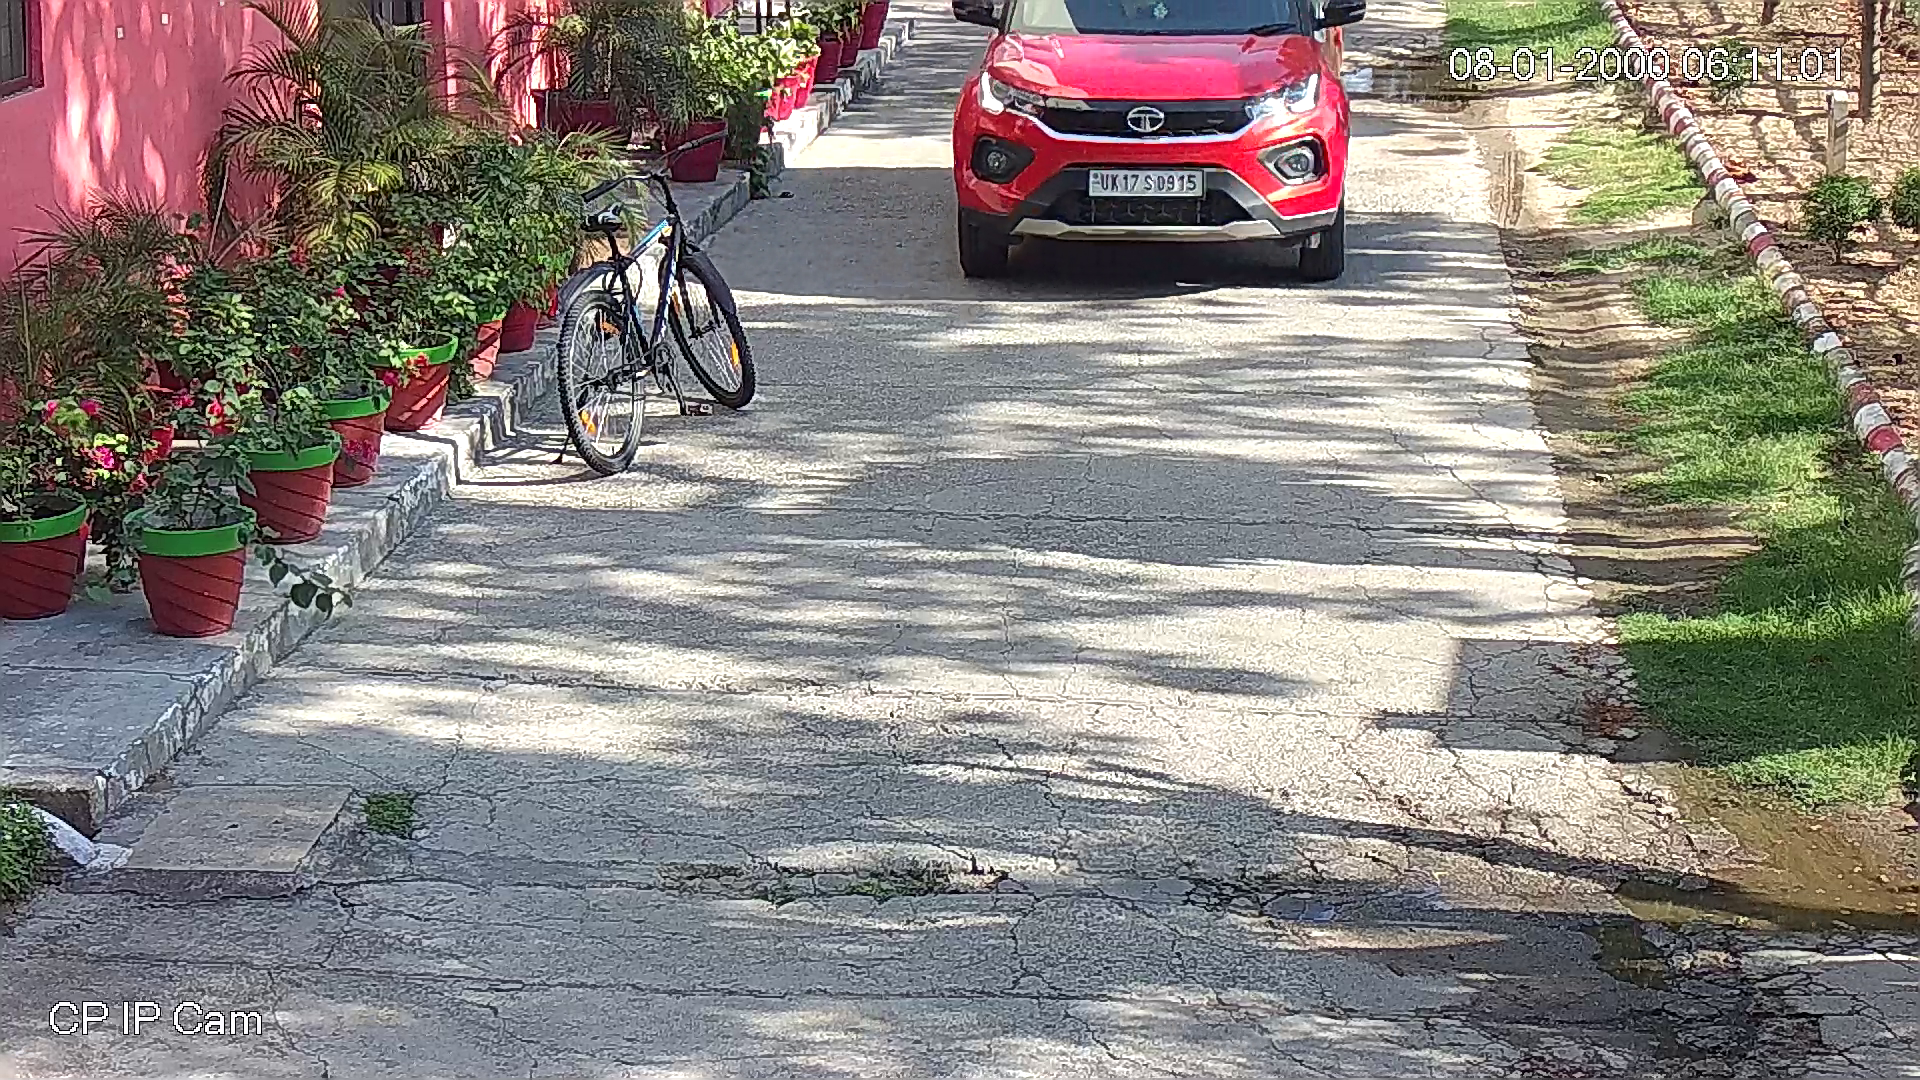plate: (1082, 163, 1206, 199)
